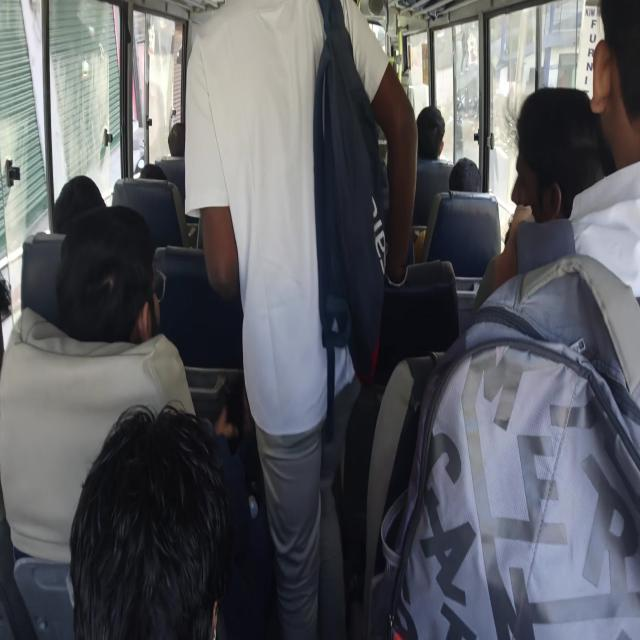person: (183, 1, 418, 637), (68, 400, 231, 638), (471, 85, 615, 319), (55, 203, 162, 345), (589, 0, 639, 171), (412, 105, 452, 226), (52, 174, 107, 234), (416, 105, 445, 160), (448, 156, 482, 192)
